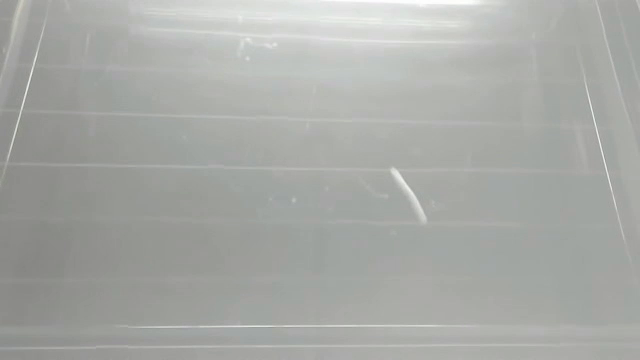alpha: (387, 165, 433, 227)
